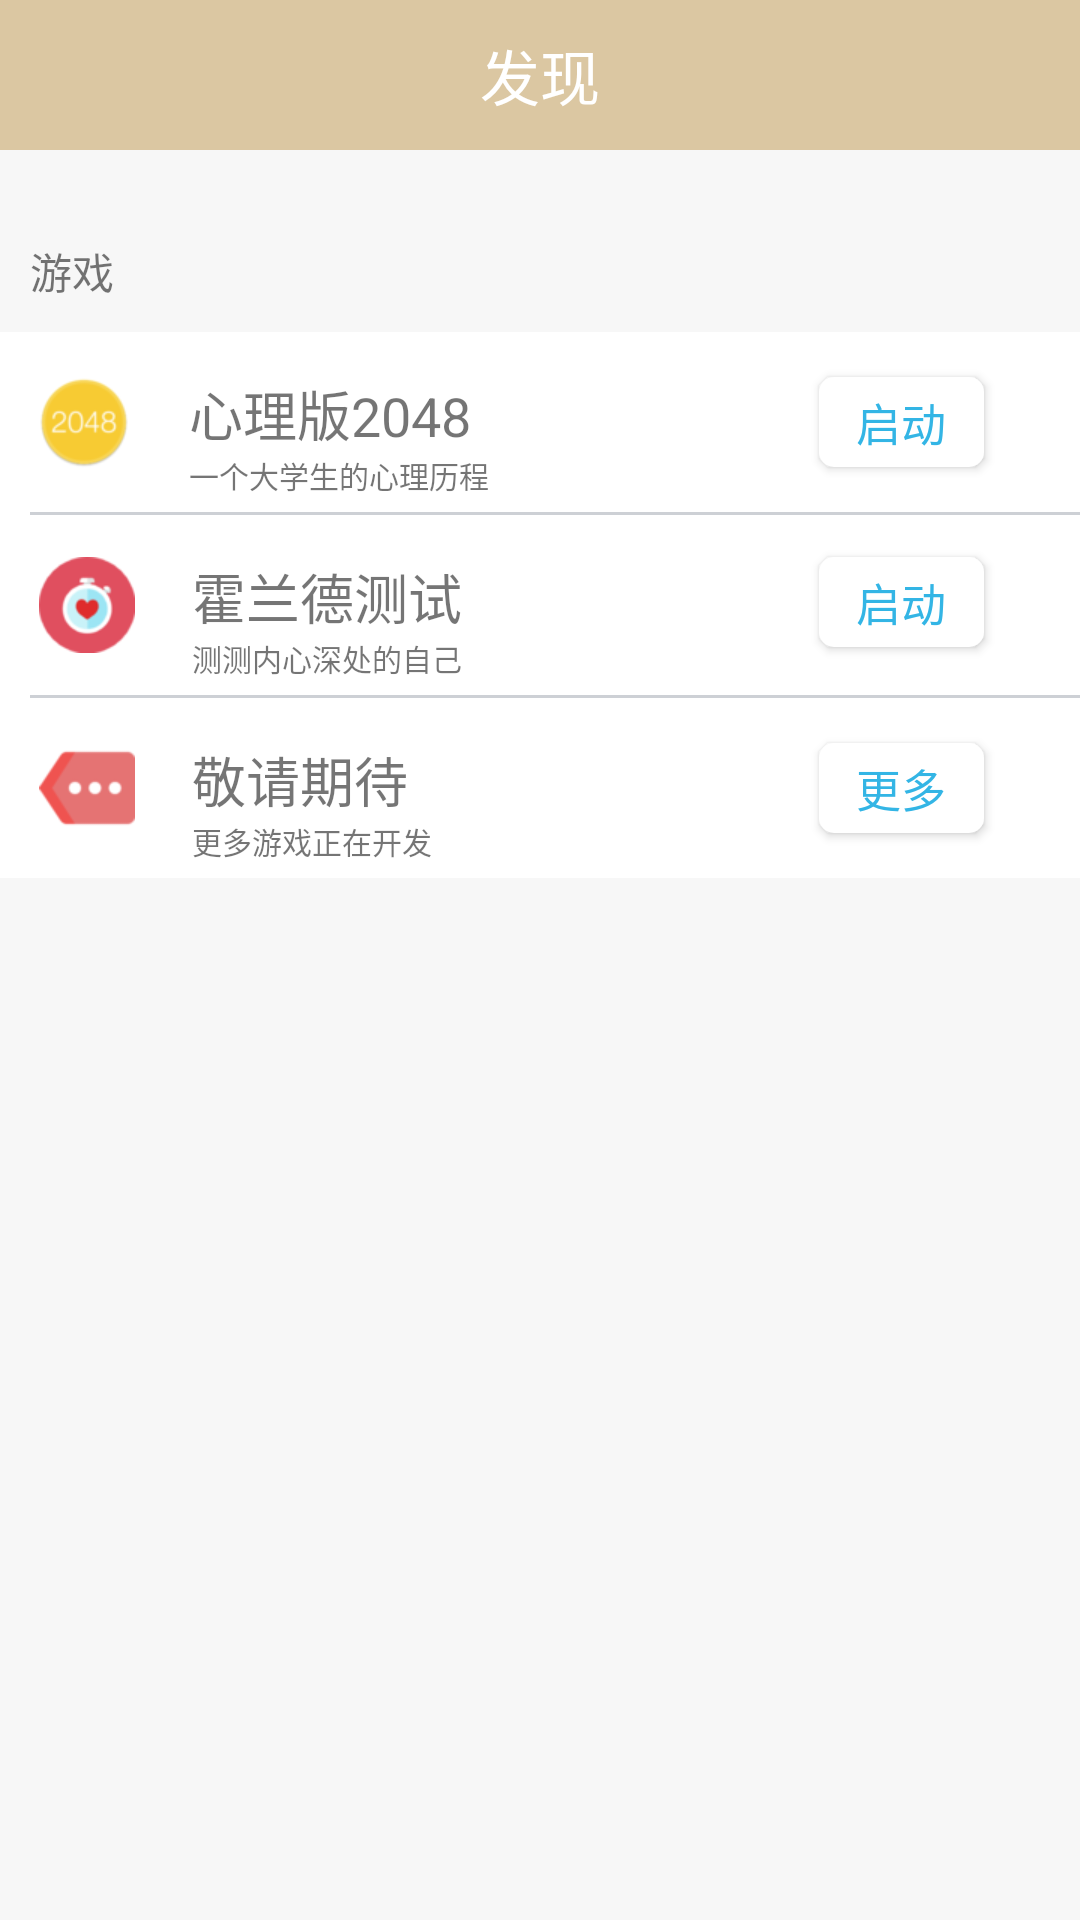

Icon bounding boxes for this 1080px×1920px phone screenshot, format (x1, y1, x2, y2):
game heart watch: (39, 557, 135, 653)
game more: (39, 751, 135, 825)
